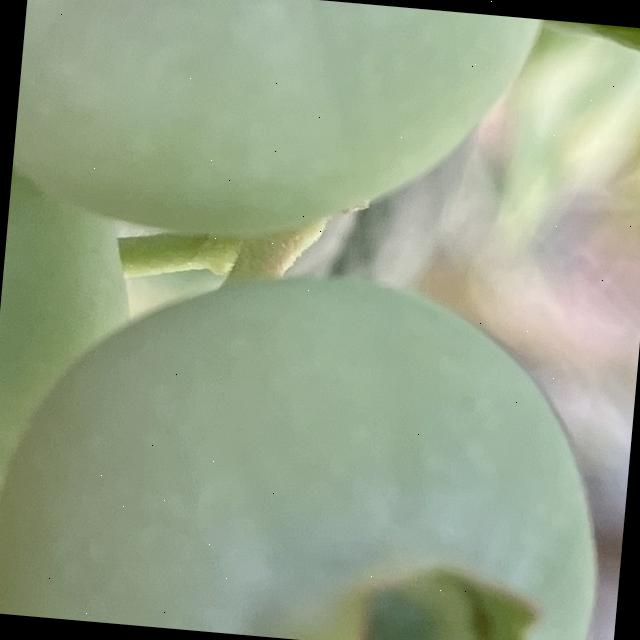Blueberries: (0, 239, 629, 640), (7, 0, 560, 267)
